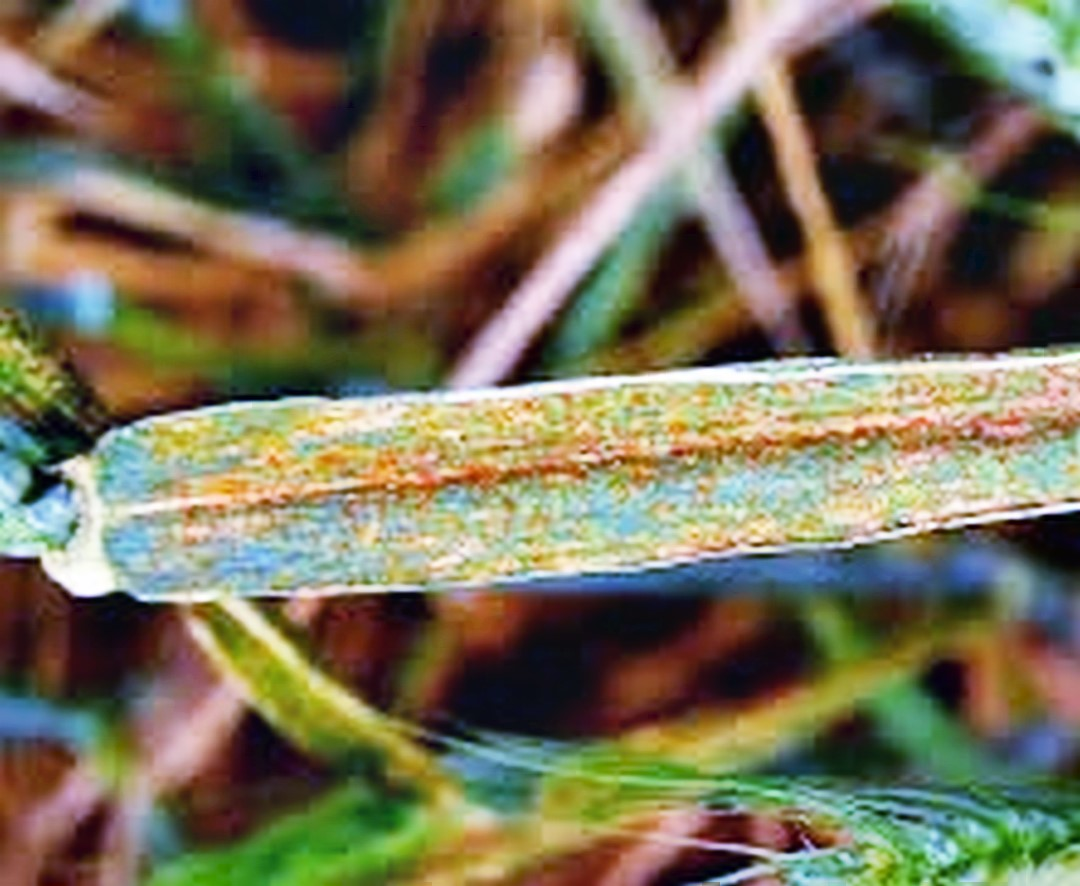Leaf Rust: (350, 346, 978, 573)
